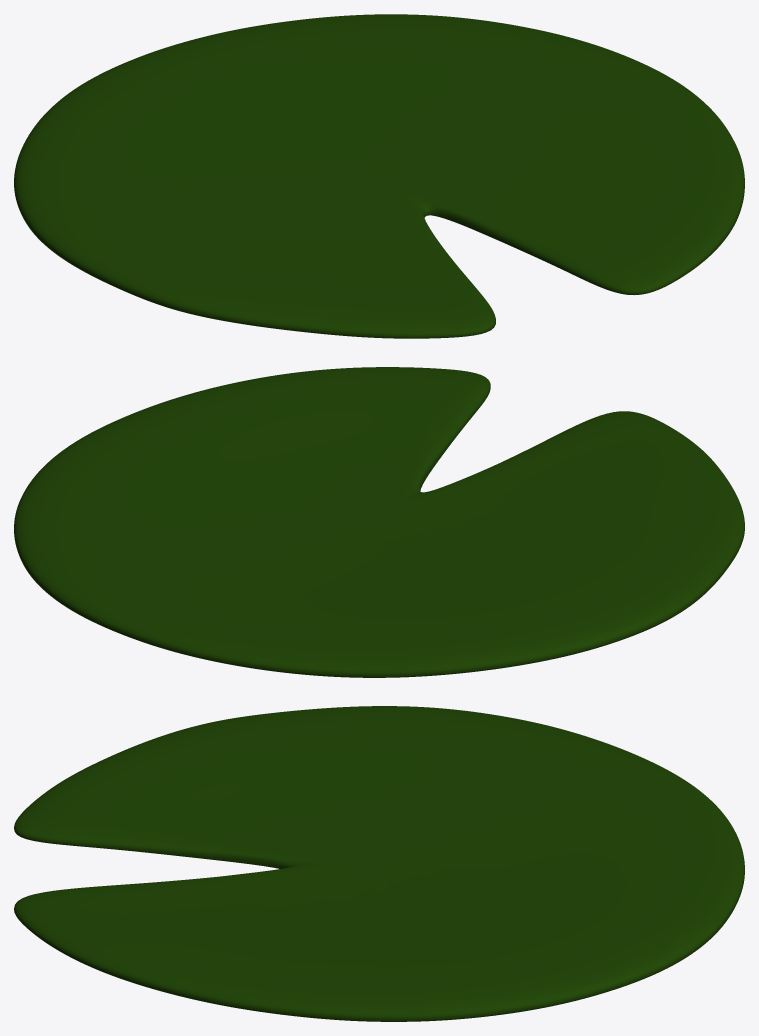
Rendered from lily_pad.fbx.
3 renders of one model, top to bottom at view 1: azimuth 30°, elevation 25°; view 2: azimuth 150°, elevation 25°; view 3: azimuth 270°, elevation 25°, orthographic. The views are drawn at different scales.
Visible parts, largest first — view 1: leaf; view 2: leaf; view 3: leaf.
Part boxes in pixels (x1,y1,x2,y2): leaf: [14, 14, 744, 338]; leaf: [14, 367, 744, 677]; leaf: [14, 706, 744, 1021].
Bounding box in the file's own units: 208 × 5.99 × 207.
